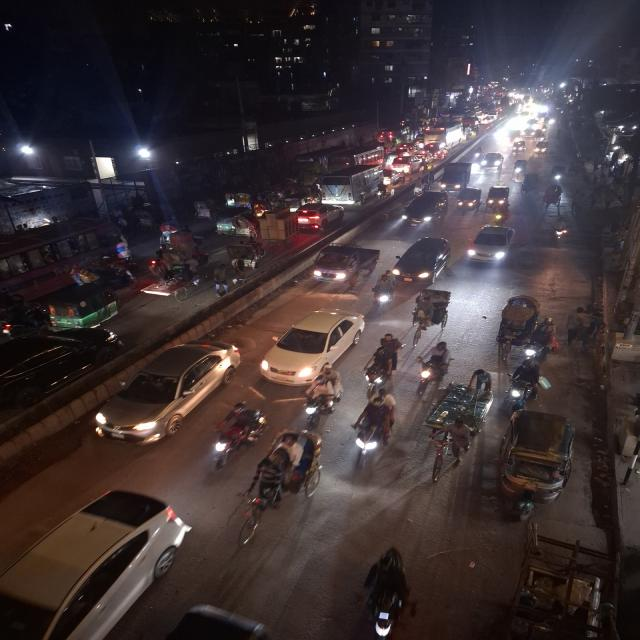bus: (0, 216, 127, 296), (314, 164, 386, 206), (425, 123, 462, 146), (346, 145, 385, 166)
car: (2, 489, 192, 639), (91, 337, 243, 445), (258, 305, 366, 385), (313, 164, 388, 206), (391, 234, 451, 286), (464, 222, 519, 272), (399, 189, 450, 229), (292, 202, 347, 233), (478, 150, 506, 174), (390, 156, 421, 174)
cng: (499, 408, 578, 518), (130, 603, 284, 640), (45, 282, 120, 328), (308, 242, 378, 290), (212, 207, 248, 236), (455, 184, 482, 214), (486, 183, 513, 213), (223, 192, 252, 208), (510, 138, 528, 156), (532, 141, 550, 155)
motorcycle: (360, 542, 412, 639), (204, 398, 266, 470), (351, 390, 396, 472), (363, 332, 402, 393), (301, 366, 342, 424), (504, 355, 546, 411), (416, 338, 453, 394), (522, 319, 559, 367), (369, 270, 401, 316), (548, 216, 571, 250)
rickshaw: (240, 428, 323, 543), (426, 365, 492, 481), (493, 292, 540, 363), (140, 261, 204, 305), (408, 286, 456, 334), (224, 238, 268, 271), (540, 181, 567, 211), (188, 198, 214, 222), (547, 162, 571, 185), (519, 172, 539, 198), (511, 158, 528, 182)
truck: (436, 160, 474, 192)
